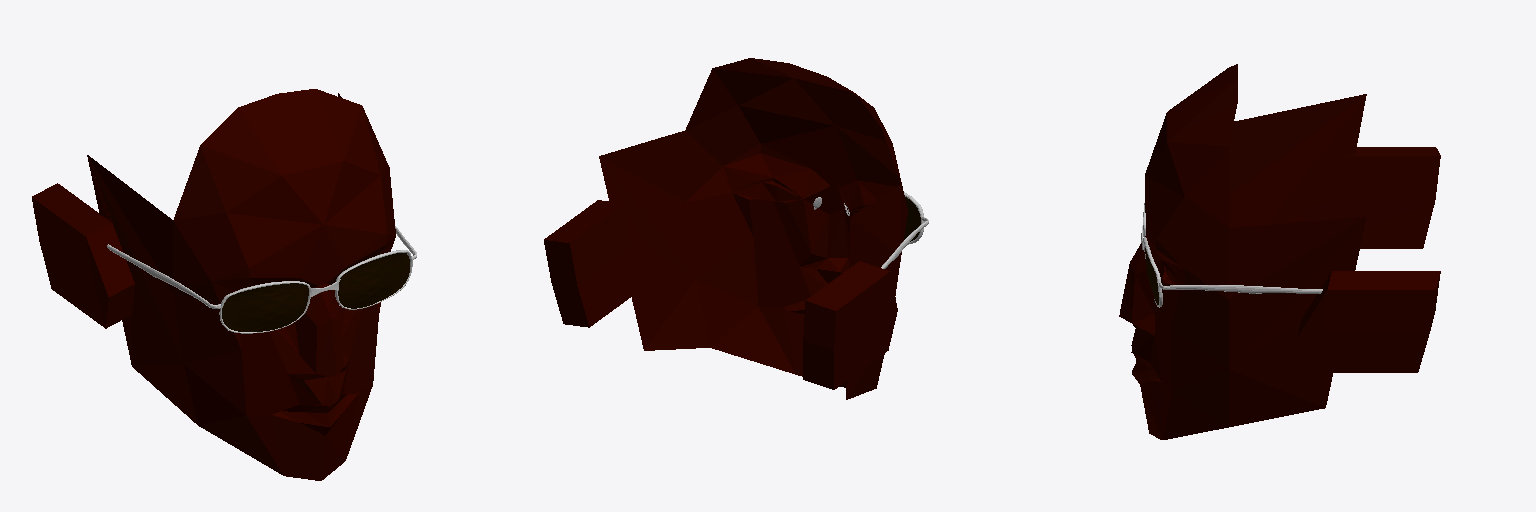
Rendered from glasses8.obj.
The picture shows the model from 3 angles: view 1: azimuth 30°, elevation 25°; view 2: azimuth 150°, elevation 25°; view 3: azimuth 270°, elevation 25°; orthographic projection.
Visible parts, largest first — view 1: occluder_mask, SunGlass_02; view 2: occluder_mask, SunGlass_02; view 3: occluder_mask, SunGlass_02.
Part boxes in pixels (bbox=[...]): occluder_mask: bbox=[32, 89, 395, 480]; SunGlass_02: bbox=[107, 226, 416, 333]; occluder_mask: bbox=[544, 58, 907, 399]; SunGlass_02: bbox=[813, 192, 928, 268]; occluder_mask: bbox=[1119, 64, 1440, 439]; SunGlass_02: bbox=[1141, 203, 1322, 307].
Size of the model in its own units: 0.1748 by 0.2026 by 0.1664.